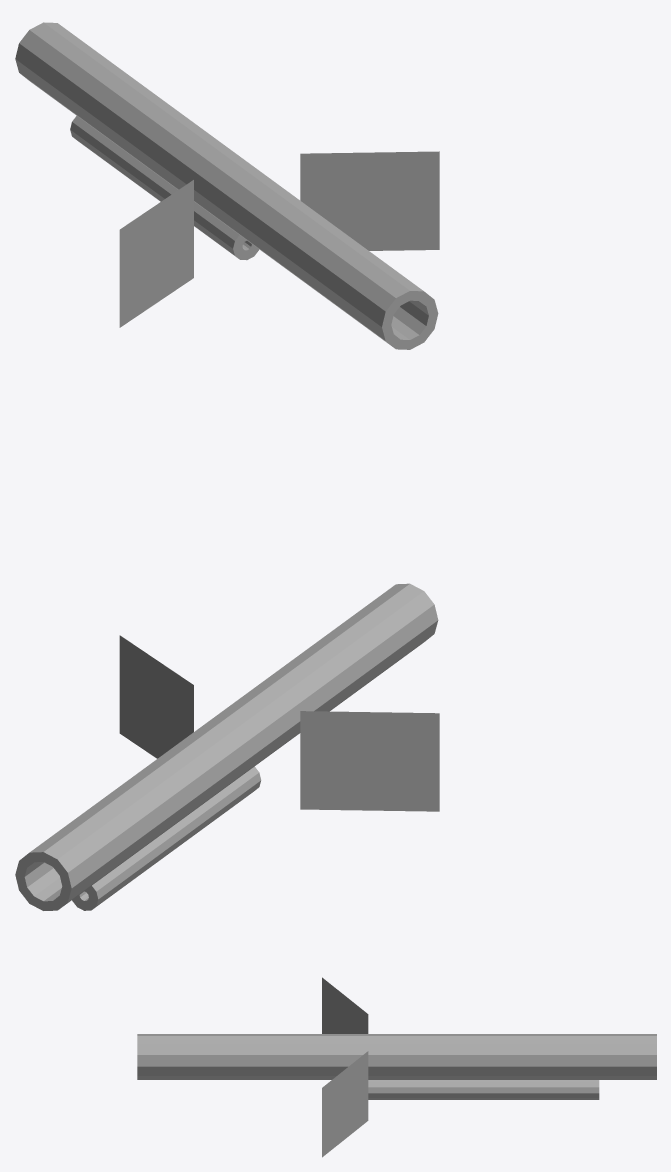
File: Thunder.dae
The picture shows the model from 3 angles, top to bottom: view 1: azimuth 30°, elevation 25°; view 2: azimuth 150°, elevation 25°; view 3: azimuth 270°, elevation 25°; orthographic projection. The views are drawn at different scales.
Parts seen in each view (by area): view 1: tube1, main, tube2; view 2: tube1, main, tube2; view 3: tube1, main, tube2.
Part boxes in pixels (<box>): tube1: <box>15,22,438,349</box>; main: <box>119,151,439,327</box>; tube2: <box>70,116,259,260</box>; tube1: <box>15,583,438,910</box>; main: <box>119,635,439,811</box>; tube2: <box>72,766,261,910</box>; tube1: <box>137,1034,656,1079</box>; main: <box>322,977,368,1157</box>; tube2: <box>368,1080,599,1099</box>.
Bounding box in the file's own units: 1.06 × 0.375 × 2.61.
1 material, 1 textured.
